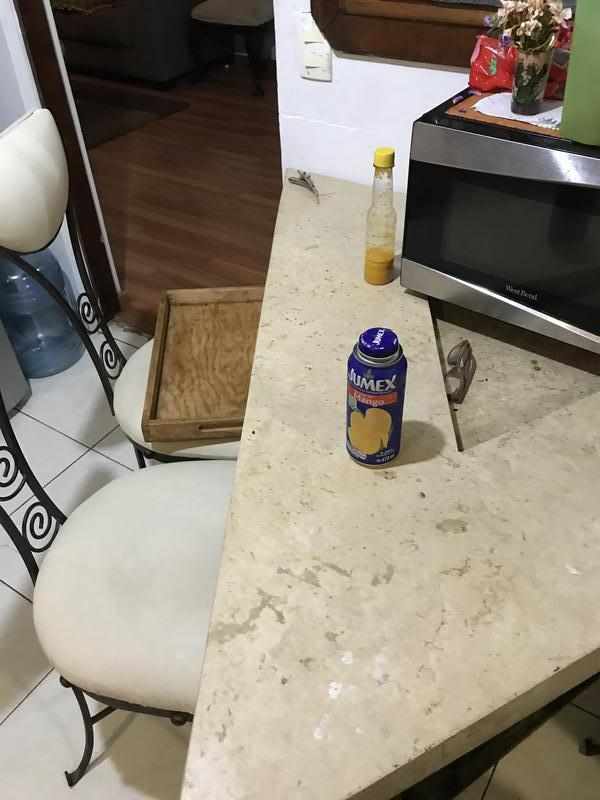jugo_jumex: (346, 325, 407, 468)
